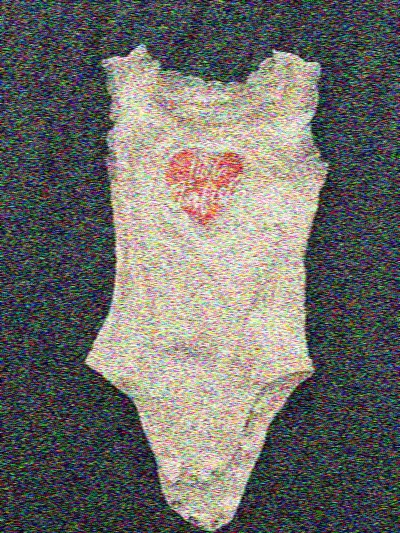Body: (45, 8, 348, 530)
